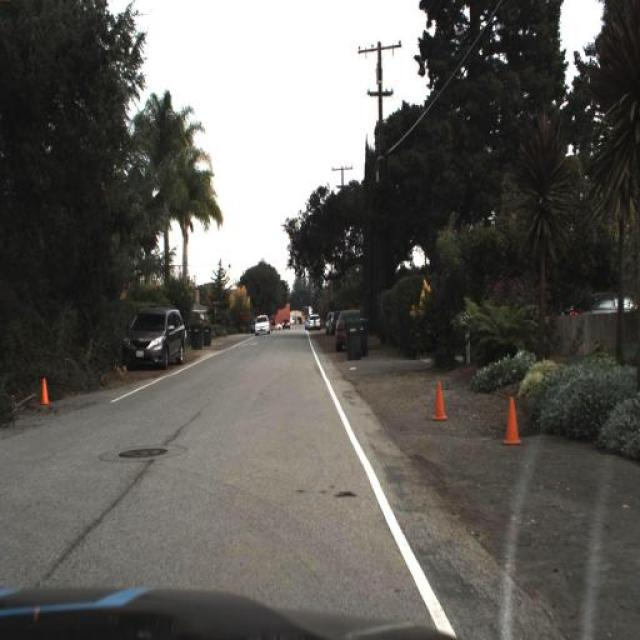car: (119, 299, 186, 373), (336, 306, 366, 353), (245, 313, 266, 339)
